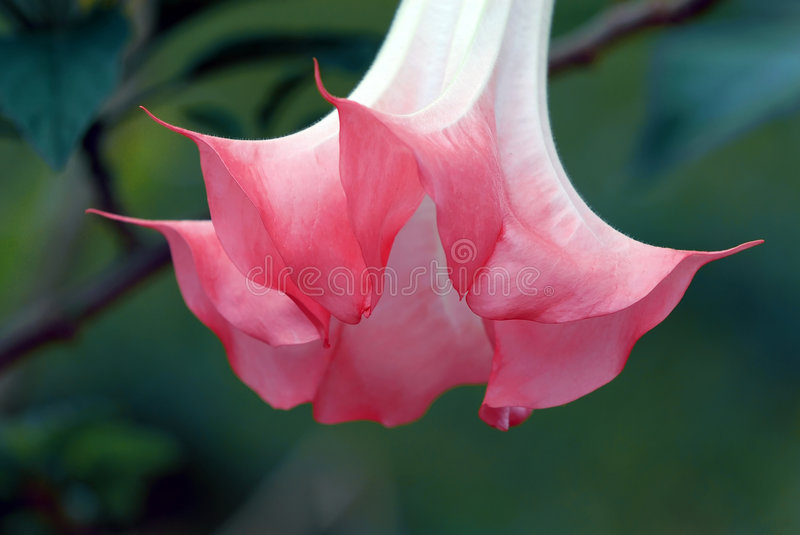Hibiscus: (119, 1, 795, 484)
